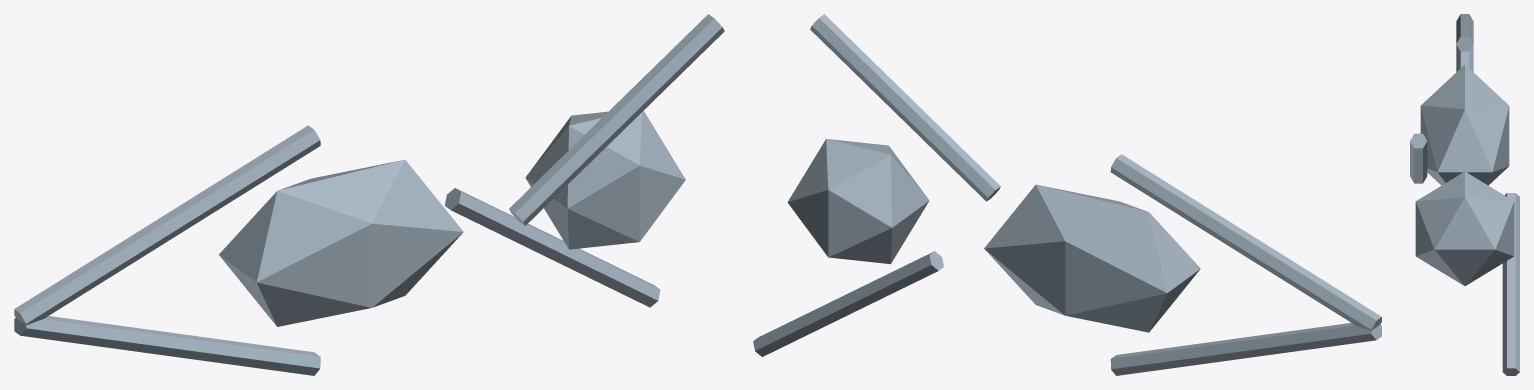
File: copepod.glb
3 renders of one model, left to right at view 1: azimuth 30°, elevation 25°; view 2: azimuth 150°, elevation 25°; view 3: azimuth 270°, elevation 25°, orthographic. The views are drawn at different scales.
Visible parts, largest first — view 1: world; view 2: world; view 3: world.
Boxes of the visible parts, x1=… form: world: x1=14, y1=14, x2=724, y2=375; world: x1=753, y1=14, x2=1381, y2=375; world: x1=1410, y1=14, x2=1519, y2=375.
Bounding box in the file's own units: 0.9667 × 0.462 × 0.19.
